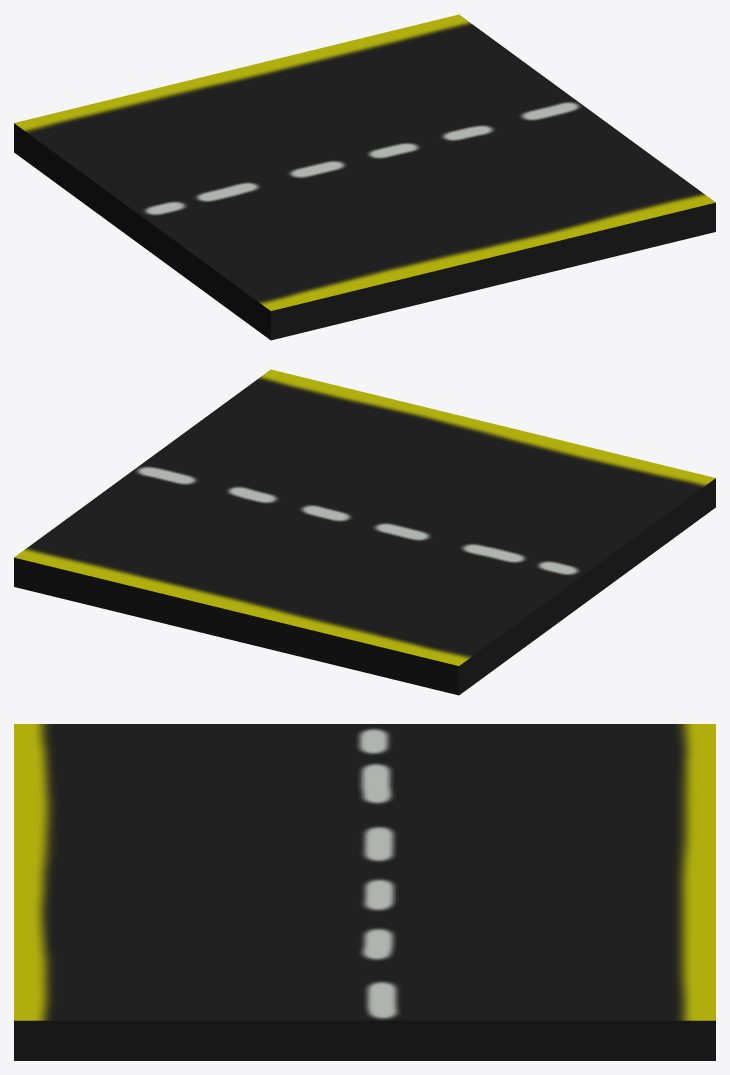
The model's file is road.obj.
The picture shows the model from 3 angles, top to bottom: view 1: azimuth 30°, elevation 25°; view 2: azimuth 150°, elevation 25°; view 3: azimuth 270°, elevation 25°; orthographic projection. The views are drawn at different scales.
Visible parts, largest first — view 1: Cube; view 2: Cube; view 3: Cube.
Part boxes in pixels (left/top/right/bottom): Cube: left=14, top=14, right=715, bottom=340; Cube: left=14, top=369, right=715, bottom=695; Cube: left=14, top=724, right=715, bottom=1060.
Bounding box in the file's own units: 1 × 0.063 × 1.
Materials: 1 (1 with a texture image).
